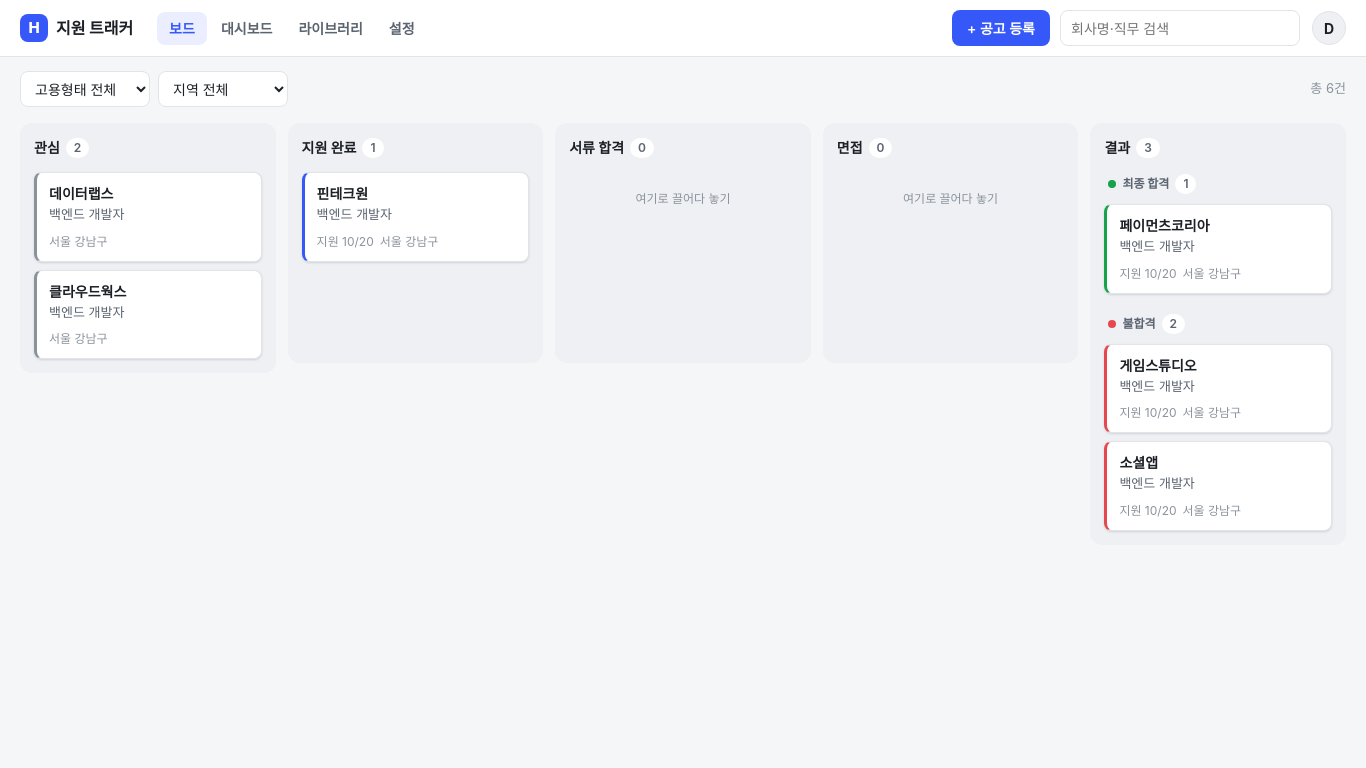
Scenario: 칸반 보드 › 필터를 고르면 그 조건으로 다시 불러오고, 초기화하면 전체로 돌아간다
Check: the text "총 6건" is shown, box top-left (1310, 79), bottom-right (1346, 99)
Select "프리랜서" in the dropdown named "고용형태": (85, 89) top-left (20, 71), bottom-right (150, 107)
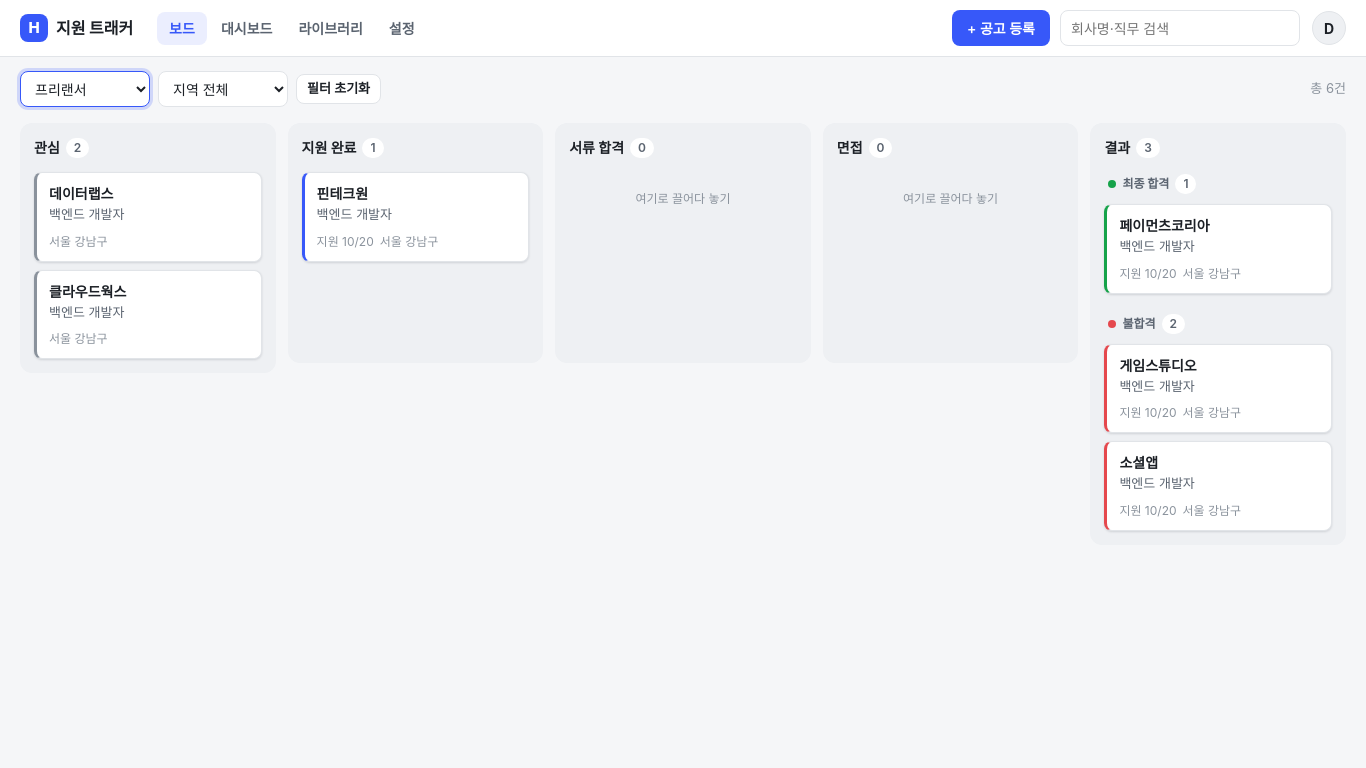
Click the button "필터 초기화": (339, 89) top-left (296, 74), bottom-right (381, 104)
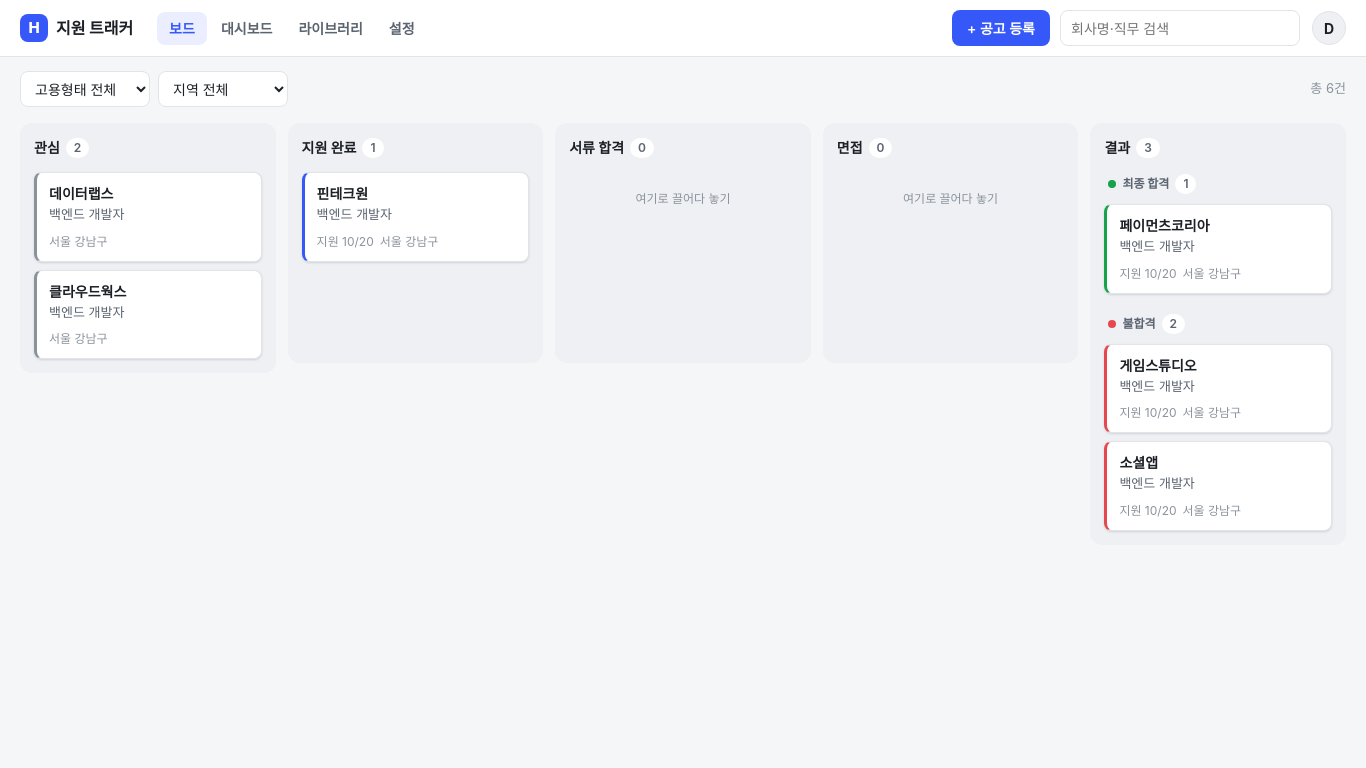
Check: the button "필터 초기화" is gone
